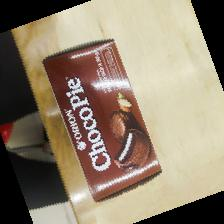Chocopie_cacao: (40, 37, 163, 204)
